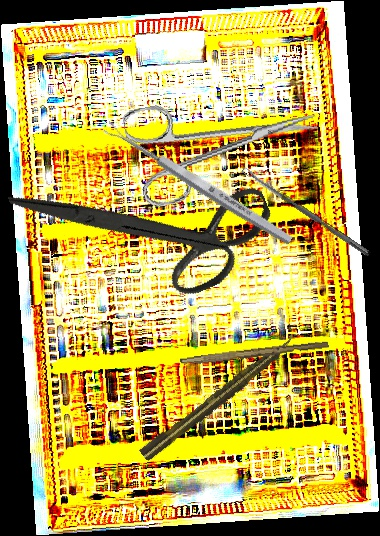Handpiece: (137, 330, 301, 464)
Iris Scissors: (7, 105, 289, 347), (121, 75, 327, 211)
Scalpel Handle: (179, 337, 330, 370)
Surgical Spoon: (102, 119, 295, 248), (241, 165, 372, 258)
